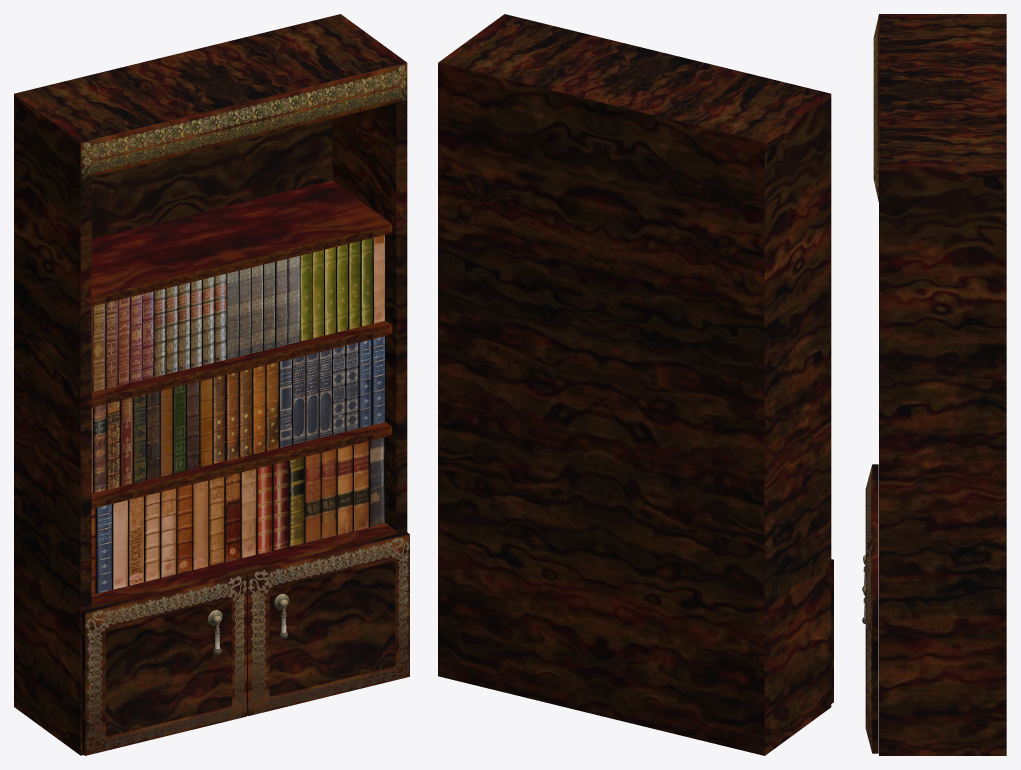
File: books-cabinet.glb
3 views of the same model, side by side, from view 1: azimuth 30°, elevation 25°; view 2: azimuth 150°, elevation 25°; view 3: azimuth 270°, elevation 25° (orthographic). The views are drawn at different scales.
Parts seen in each view (by area): view 1: Book_s_cabinet_low_Book_s_cabinet_0, Book_s_cabinet_low_Books_0; view 2: Book_s_cabinet_low_Book_s_cabinet_0; view 3: Book_s_cabinet_low_Book_s_cabinet_0.
Boxes of the visible parts, x1,y1,x2,y2 form: Book_s_cabinet_low_Book_s_cabinet_0: [14, 14, 409, 755]; Book_s_cabinet_low_Books_0: [91, 235, 385, 594]; Book_s_cabinet_low_Book_s_cabinet_0: [438, 14, 833, 755]; Book_s_cabinet_low_Book_s_cabinet_0: [862, 14, 1006, 755].
Size of the model in its own units: 1.11 by 2 by 0.4451.
Materials: 2 (2 with a texture image).
